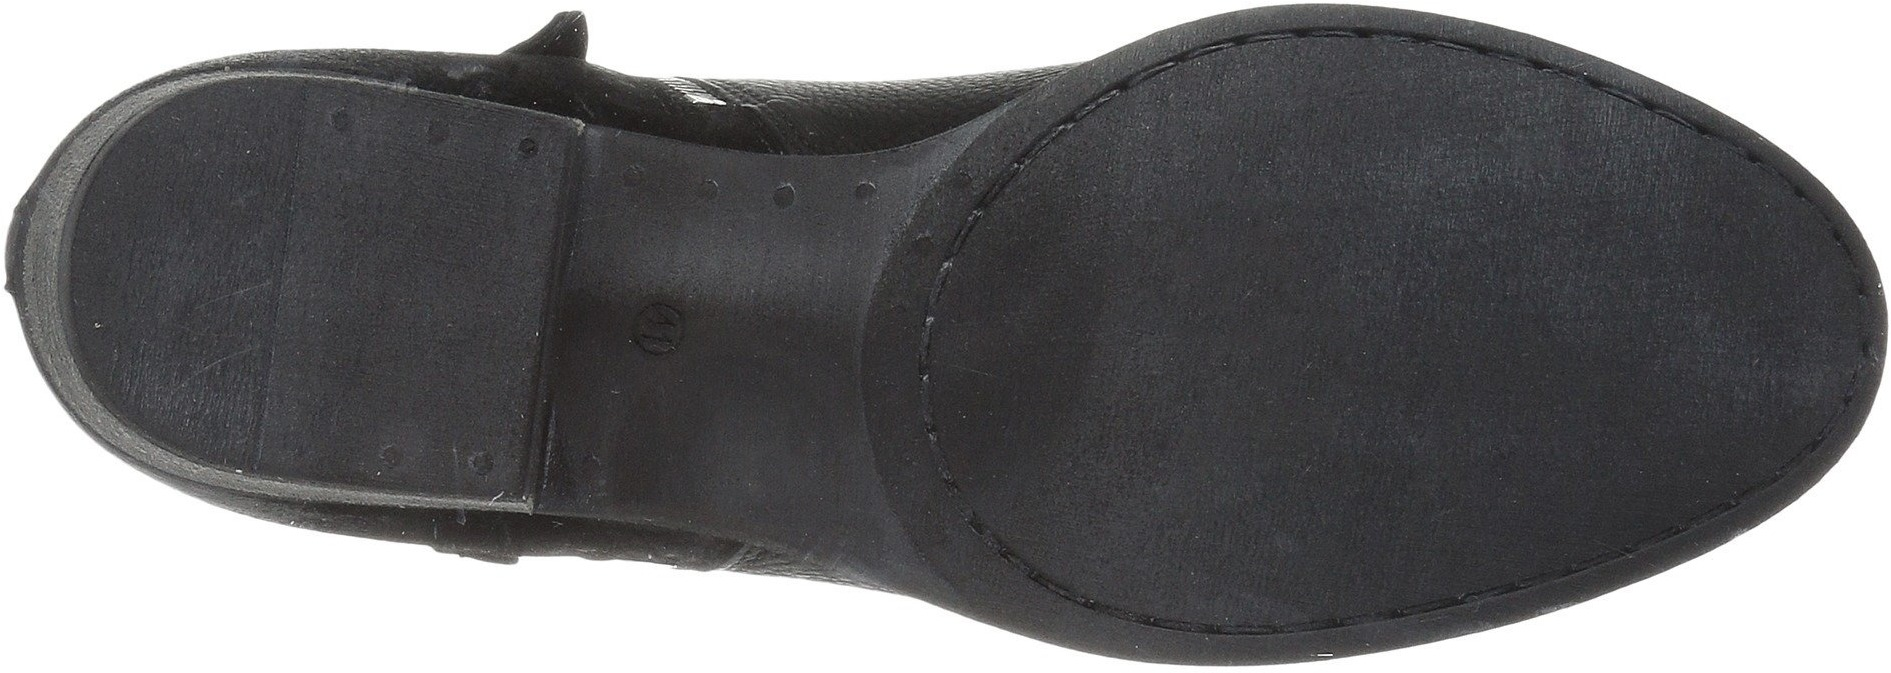other: (130, 117, 564, 476), (1258, 88, 1563, 333), (999, 238, 1254, 501), (1577, 201, 1823, 423), (1276, 347, 1517, 566), (1122, 95, 1239, 218)
